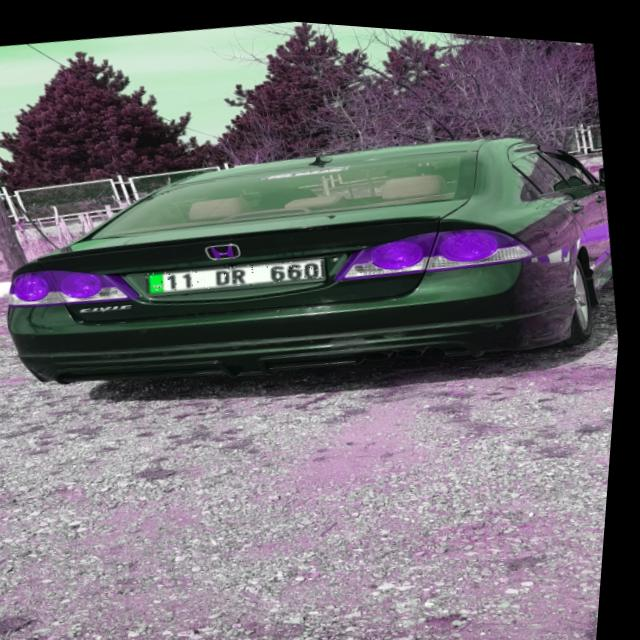plate: (149, 243, 330, 302)
